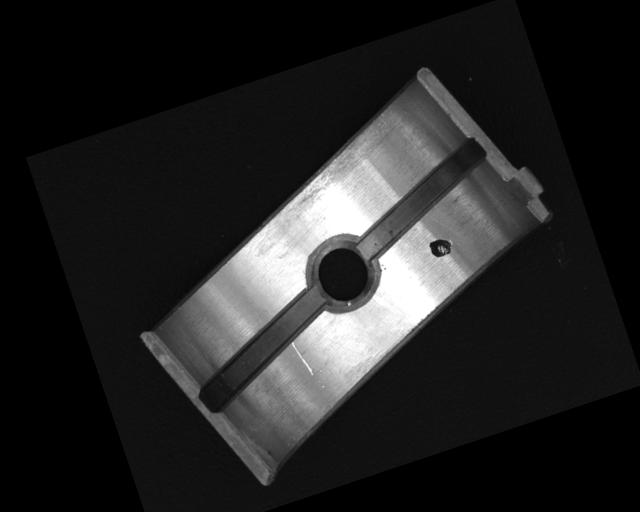blot: (427, 234, 456, 260)
gap: (181, 284, 345, 414), (338, 137, 505, 262)
hole: (300, 227, 386, 319)
nick: (290, 337, 314, 379)
scratch: (258, 112, 405, 218)
